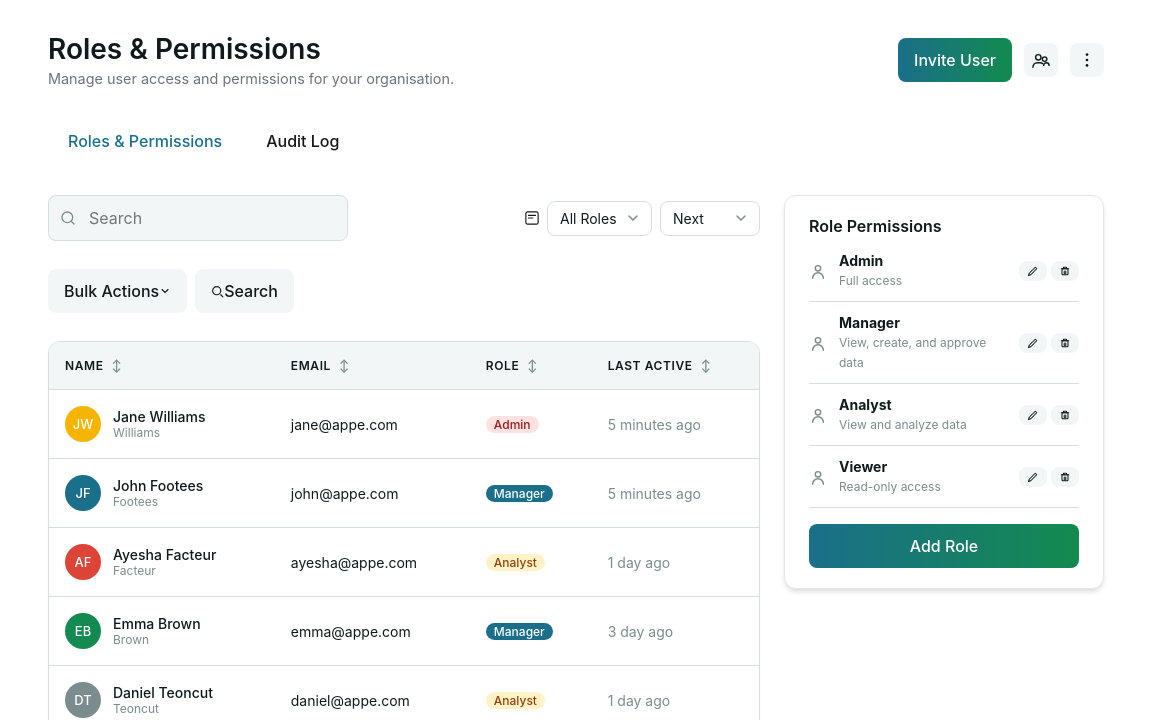
Test case: RolesPage › closes invite modal when Close is clicked
This screenshot has width=1152, height=720.
Step 1. Click the button with test id "invite-user-btn" → (955, 60), box top-left (898, 38), bottom-right (1012, 82)
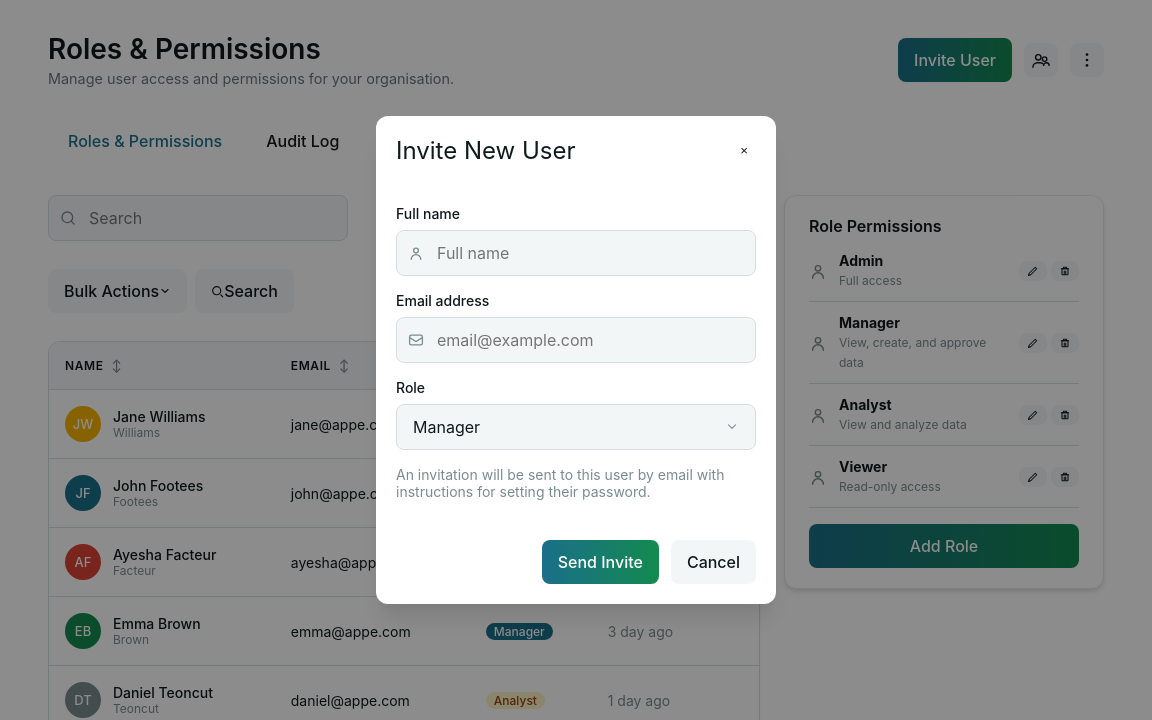
Step 2. Click the button named "Close" → (744, 150), box top-left (732, 136), bottom-right (756, 165)
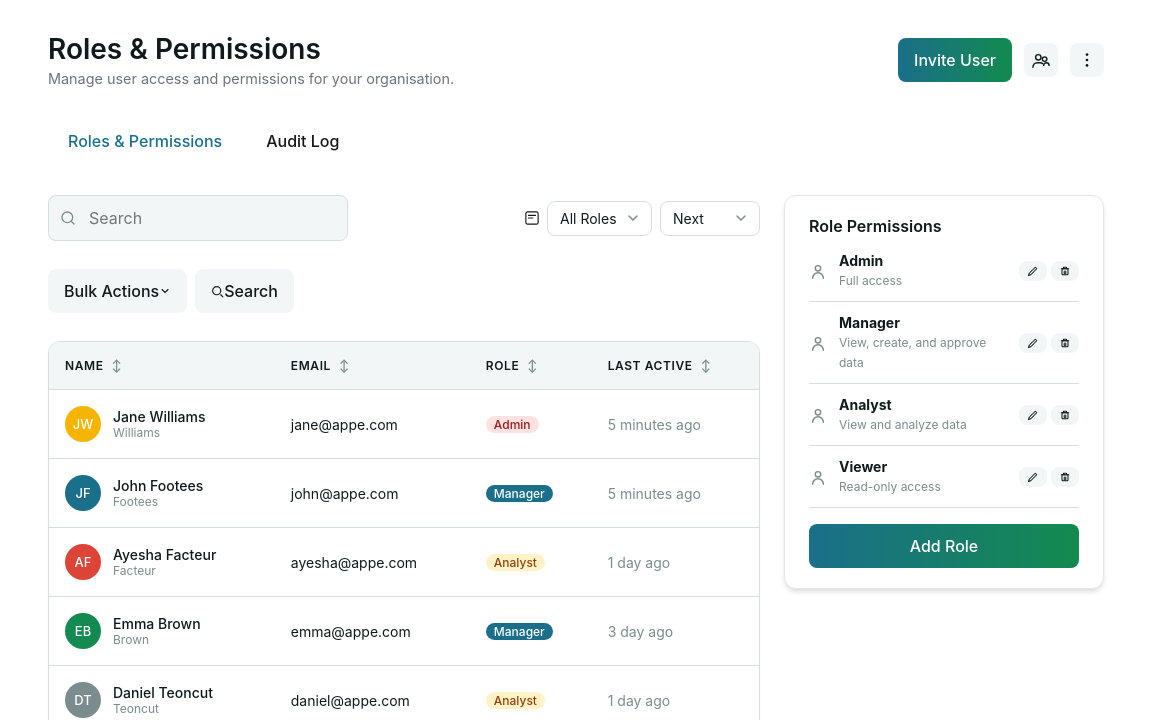
Expected: the dialog with test id "invite-modal" is gone
